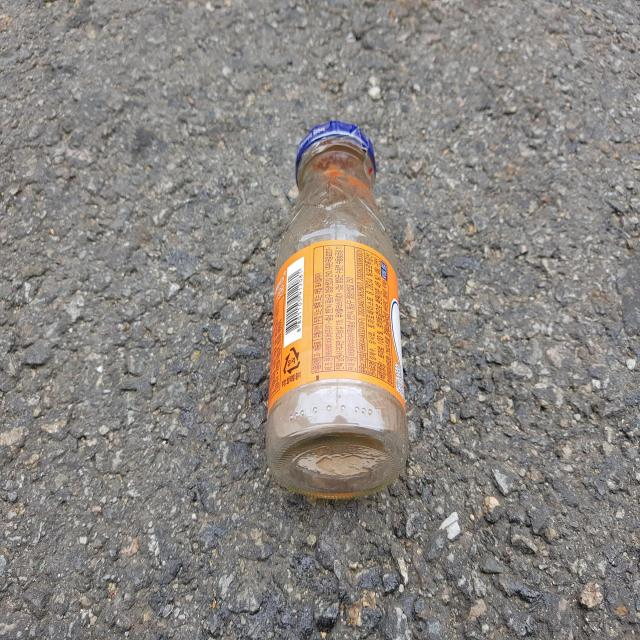glass: (267, 120, 408, 498)
